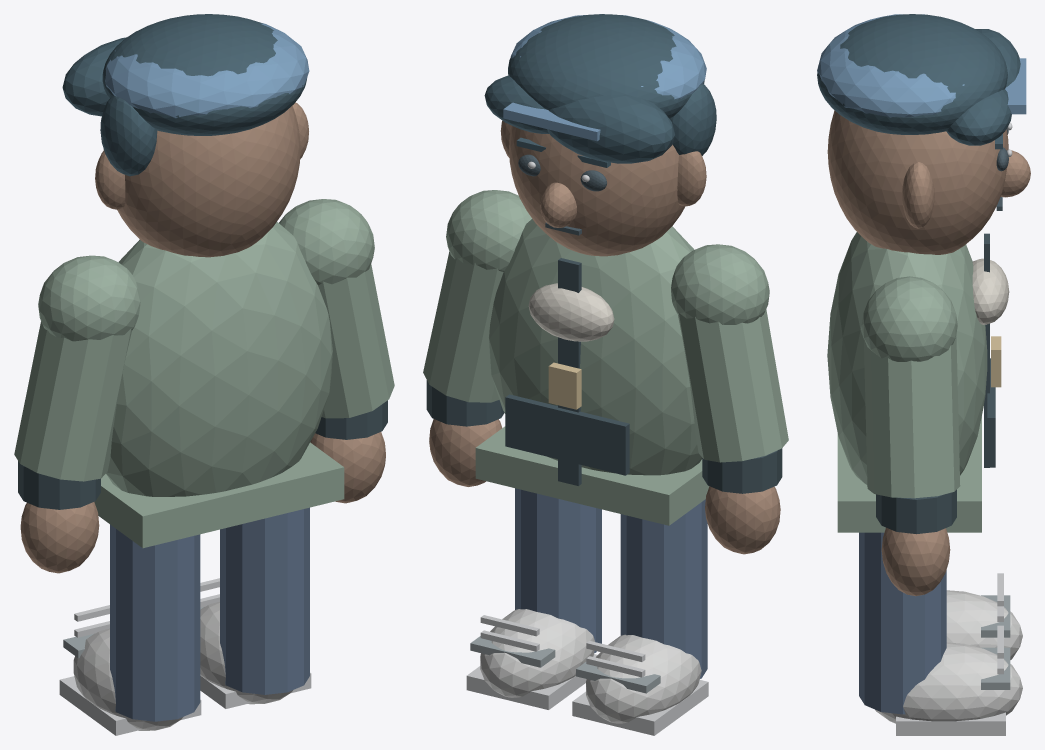
The model's file is student_bucket_c.glb.
3 views of the same model, side by side, from view 1: azimuth 30°, elevation 25°; view 2: azimuth 150°, elevation 25°; view 3: azimuth 270°, elevation 25° (orthographic). The views are drawn at different scales.
Visible parts, largest first — view 1: StudentPart_green, StudentPart_denim, StudentPart_skin4, StudentPart_hair4, StudentPart_blue, StudentPart_sneaker, StudentPart_dark, StudentPart_white; view 2: StudentPart_green, StudentPart_hair4, StudentPart_skin4, StudentPart_denim, StudentPart_dark, StudentPart_sneaker, StudentPart_white, StudentPart_blue, StudentPart_cream, StudentPart_grey, StudentPart_gold, StudentPart_ink; view 3: StudentPart_green, StudentPart_skin4, StudentPart_hair4, StudentPart_denim, StudentPart_sneaker, StudentPart_blue, StudentPart_dark, StudentPart_white, StudentPart_cream, StudentPart_grey, StudentPart_gold.
Boxes of the visible parts, box(x1,y1,x2,y2) form: StudentPart_green: box(14, 199, 394, 548); StudentPart_denim: box(110, 507, 309, 721); StudentPart_skin4: box(20, 102, 385, 573); StudentPart_hair4: box(62, 14, 307, 176); StudentPart_blue: box(105, 23, 309, 118); StudentPart_sneaker: box(73, 602, 292, 730); StudentPart_dark: box(18, 400, 387, 509); StudentPart_white: box(59, 578, 311, 735); StudentPart_green: box(423, 190, 788, 525); StudentPart_hair4: box(484, 14, 716, 167); StudentPart_skin4: box(429, 121, 780, 554); StudentPart_denim: box(515, 488, 707, 678); StudentPart_dark: box(426, 258, 782, 493); StudentPart_sneaker: box(480, 609, 701, 723); StudentPart_white: box(466, 161, 708, 735); StudentPart_blue: box(503, 14, 706, 141); StudentPart_cream: box(528, 283, 614, 341); StudentPart_grey: box(470, 636, 660, 693); StudentPart_gold: box(548, 362, 581, 409); StudentPart_ink: box(518, 154, 606, 235); StudentPart_green: box(827, 232, 987, 532); StudentPart_skin4: box(827, 110, 1030, 596); StudentPart_hair4: box(817, 14, 1020, 149); StudentPart_denim: box(859, 532, 946, 714); StudentPart_sneaker: box(875, 590, 1022, 723); StudentPart_blue: box(817, 14, 1026, 117); StudentPart_dark: box(876, 233, 995, 534); StudentPart_white: box(896, 123, 1012, 735); StudentPart_cream: box(972, 258, 1009, 324); StudentPart_grey: box(981, 595, 1010, 689); StudentPart_gold: box(991, 336, 1001, 387).
Bounding box in the file's own units: 1.2 × 2.16 × 0.623.
